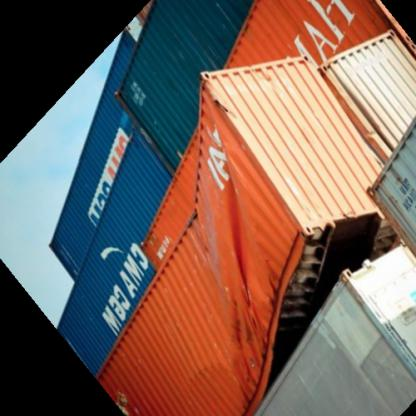Damage: (128, 23, 170, 174), (157, 186, 193, 266), (191, 91, 223, 159), (13, 200, 30, 243), (79, 186, 98, 224), (56, 163, 68, 201), (120, 200, 140, 221), (28, 100, 40, 126)
